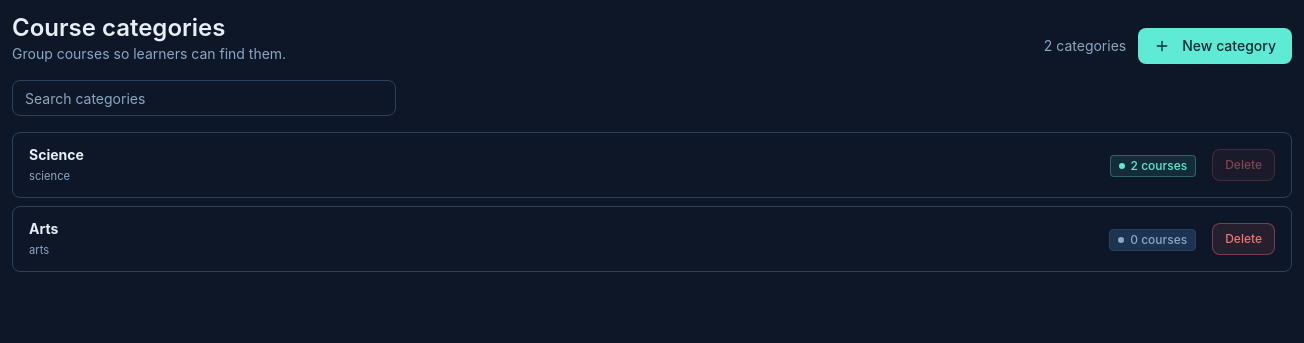
Test: CategoriesPage › only lets an unused category be deleted, after confirming
expect the text "Science" is shown: met, box [29,146,84,163]
expect the button with aria-label "Delete category Science" is disabled: met, box [1212,149,1275,181]
Click the button with aria-label "Delete category Arts": click(1244, 239) [1212,223,1275,255]
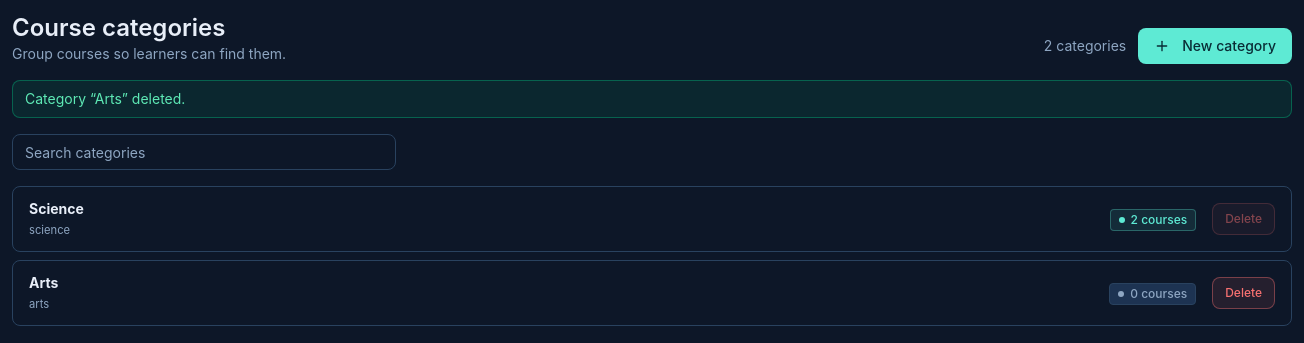
expect the text "Category “Arts” deleted." is shown: met, box [12,80,1292,118]
